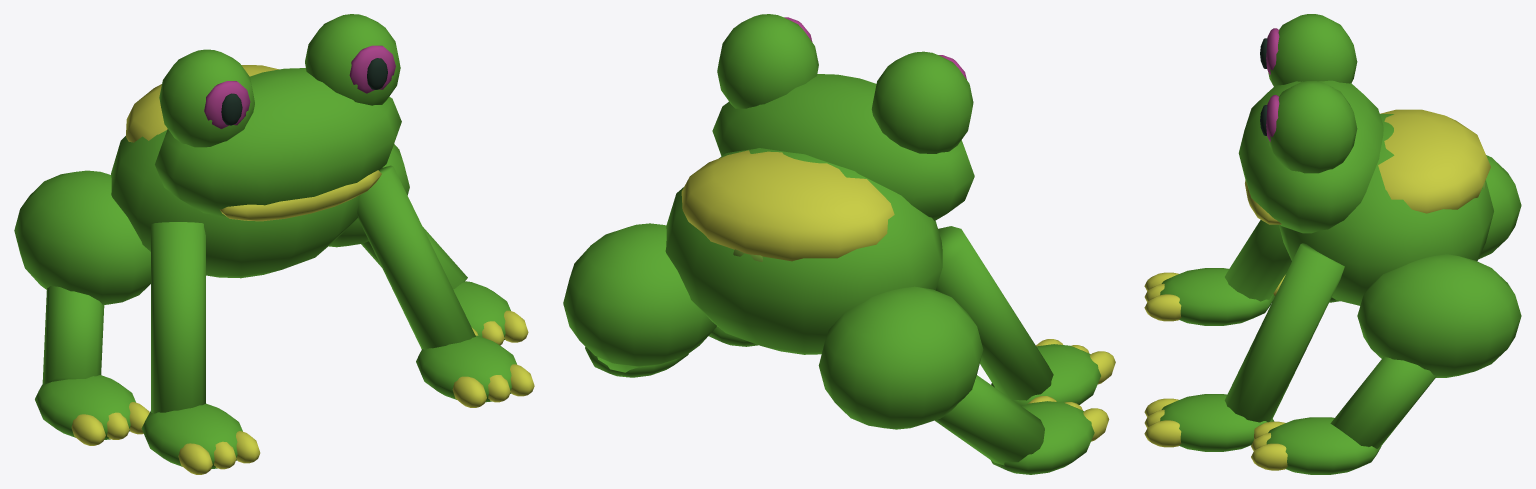
File: wurstii-frogger.glb
The picture shows the model from 3 angles, left to right: view 1: azimuth 30°, elevation 25°; view 2: azimuth 150°, elevation 25°; view 3: azimuth 270°, elevation 25°; orthographic projection. The views are drawn at different scales.
Parts seen in each view (by area): view 1: wurstii-frogger_geometry; view 2: wurstii-frogger_geometry; view 3: wurstii-frogger_geometry.
Boxes of the visible parts, box(x1,y1,x2,y2) form: wurstii-frogger_geometry: box(14, 14, 534, 474); wurstii-frogger_geometry: box(563, 14, 1115, 474); wurstii-frogger_geometry: box(1144, 14, 1521, 474).
Size of the model in its own units: 0.54 by 0.3969 by 0.4102.
